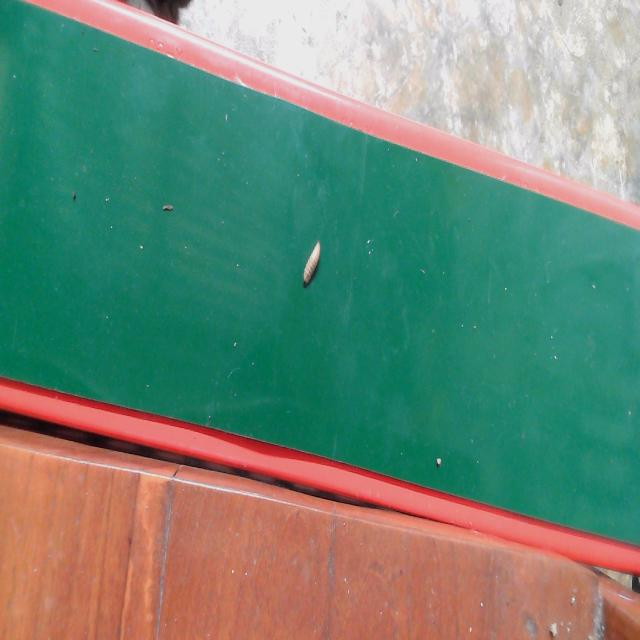Maggot: (299, 239, 325, 289)
